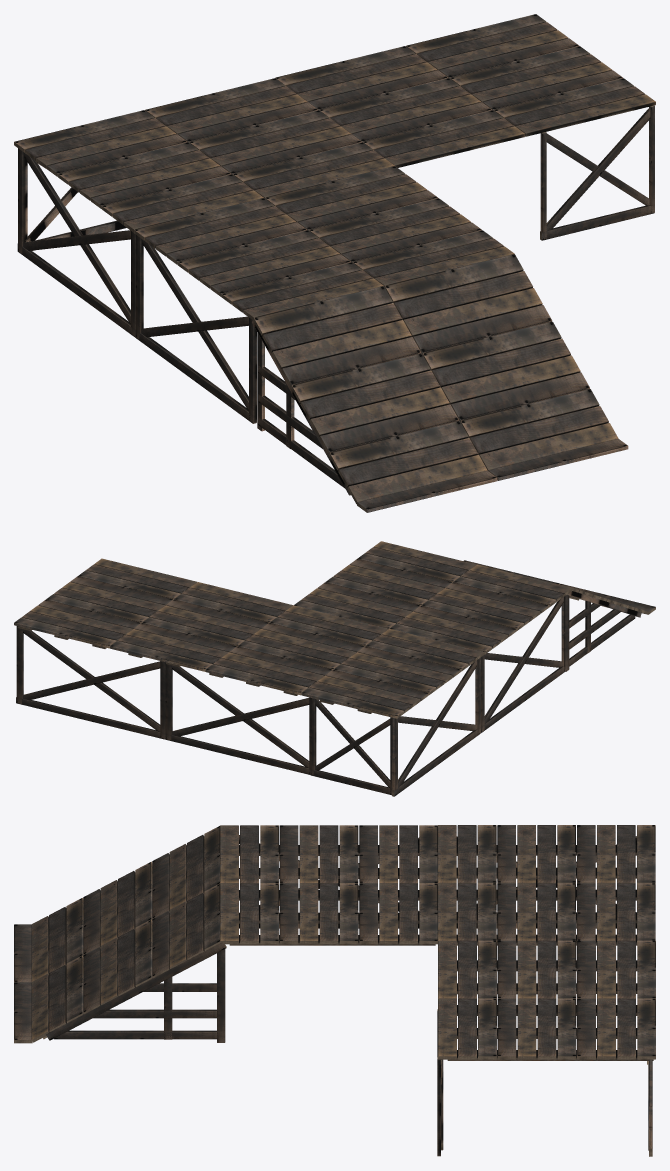
The model's file is Platform.fbx.
The picture shows the model from 3 angles, top to bottom: view 1: azimuth 30°, elevation 25°; view 2: azimuth 150°, elevation 25°; view 3: azimuth 270°, elevation 25°; orthographic projection. The views are drawn at different scales.
Visible parts, largest first — view 1: polySurface337; view 2: polySurface337; view 3: polySurface337.
Part boxes in pixels (x1,y1,x2,y2): polySurface337: [14, 14, 655, 512]; polySurface337: [14, 541, 655, 796]; polySurface337: [14, 825, 655, 1156].
Bounding box in the file's own units: 88.47 × 18.59 × 104.
Materials: 1 (1 with a texture image).
